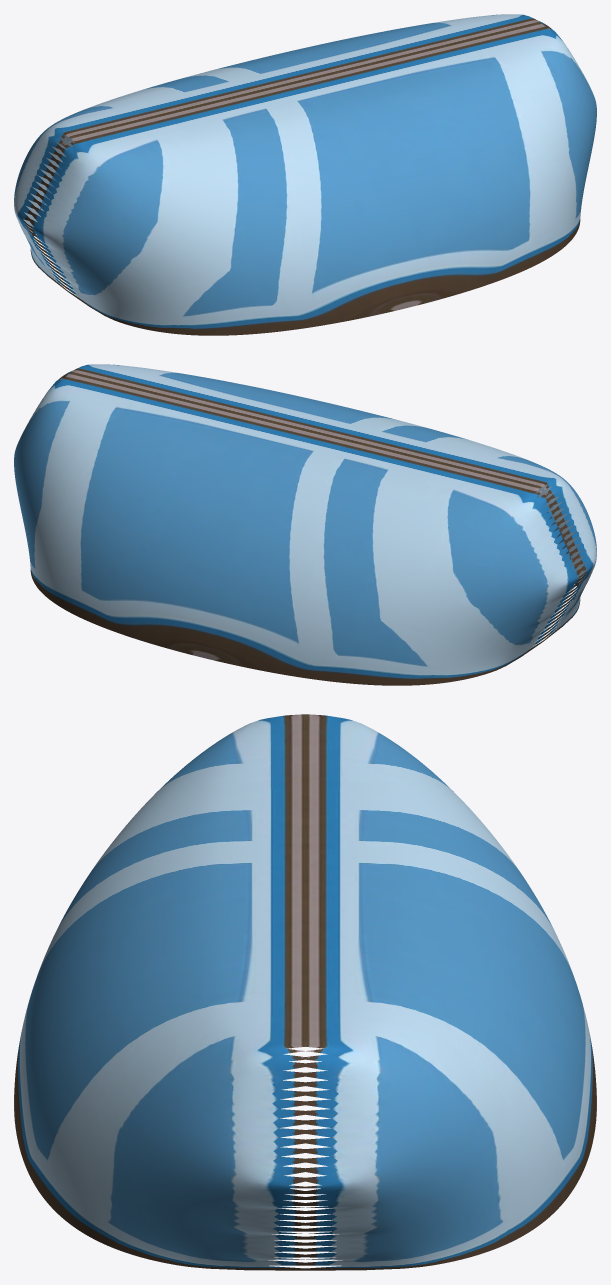
File: bay_sign.glb
3 renders of one model, top to bottom at view 1: azimuth 30°, elevation 25°; view 2: azimuth 150°, elevation 25°; view 3: azimuth 270°, elevation 25°, orthographic. The views are drawn at different scales.
Parts seen in each view (by area): view 1: bay_sign; view 2: bay_sign; view 3: bay_sign.
Boxes of the visible parts, box(x1,y1,x2,y2) form: bay_sign: box(14, 14, 596, 335); bay_sign: box(14, 364, 596, 685); bay_sign: box(14, 714, 596, 1270).
Bounding box in the file's own units: 0.9876 × 0.2625 × 0.6204.
Materials: 1 (1 with a texture image).
